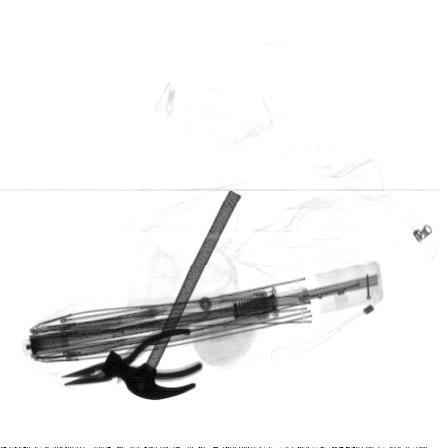Hammer: (100, 190, 242, 401)
Pliers: (63, 327, 203, 385)
